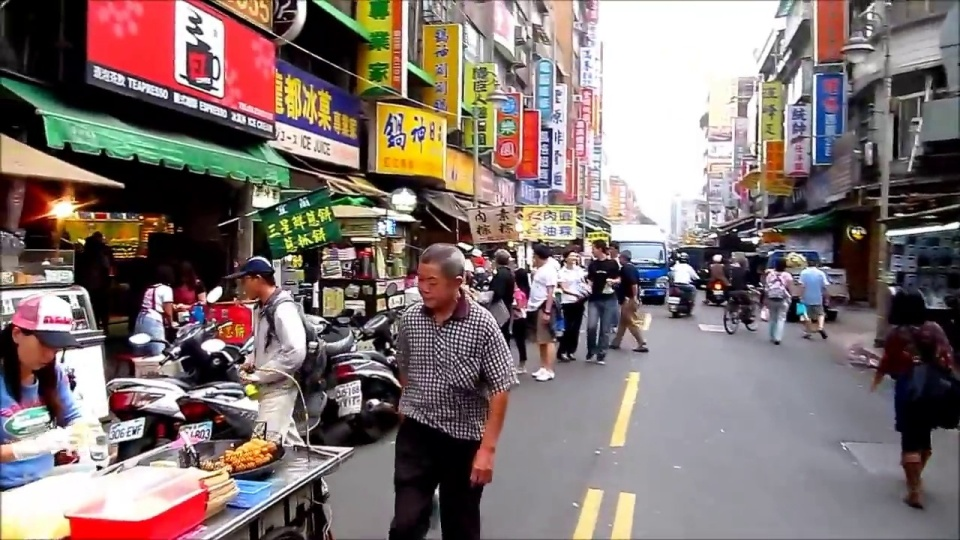person_head: (3, 294, 81, 371), (411, 241, 462, 308), (882, 283, 931, 329), (242, 255, 278, 297), (523, 240, 552, 269), (486, 241, 510, 271), (504, 263, 528, 288), (559, 243, 582, 266), (612, 246, 636, 267), (770, 247, 790, 271), (586, 233, 603, 260), (803, 250, 823, 271), (706, 243, 725, 263), (155, 269, 172, 286), (725, 252, 741, 269), (675, 246, 690, 264), (606, 240, 620, 254)
person_vbox: (387, 242, 515, 540), (868, 281, 960, 510), (0, 292, 100, 501), (224, 253, 306, 441), (522, 233, 570, 385), (474, 230, 519, 366), (581, 230, 618, 368), (134, 269, 191, 357), (497, 250, 536, 378), (605, 249, 648, 353), (550, 233, 582, 368), (717, 241, 762, 333), (752, 255, 795, 343), (601, 222, 628, 342), (662, 235, 699, 316), (797, 250, 828, 342), (699, 235, 732, 306)
